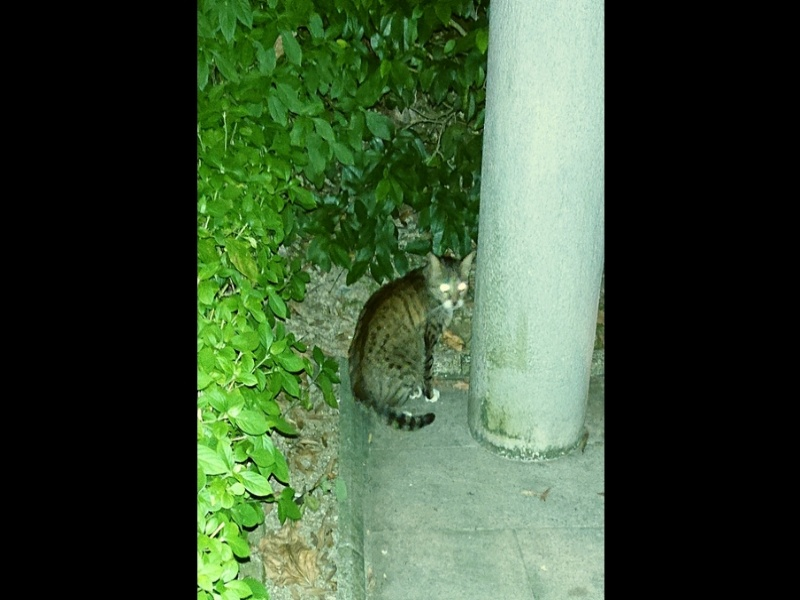cat: (347, 248, 475, 439)
